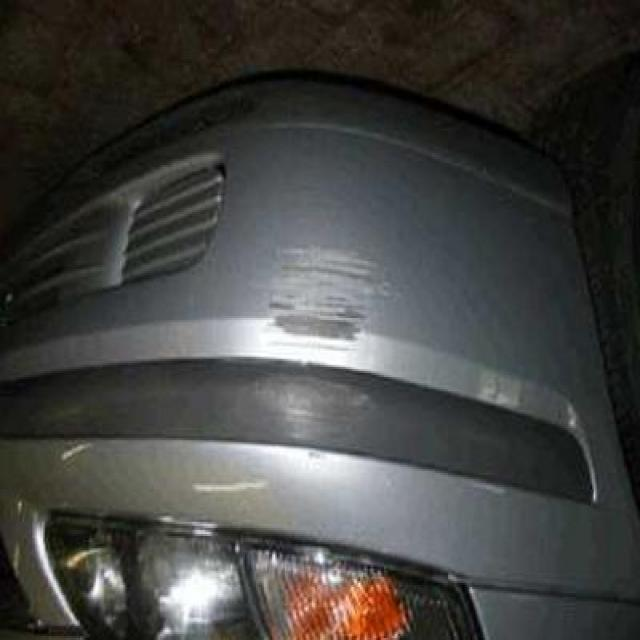scratch: (263, 235, 398, 366)
